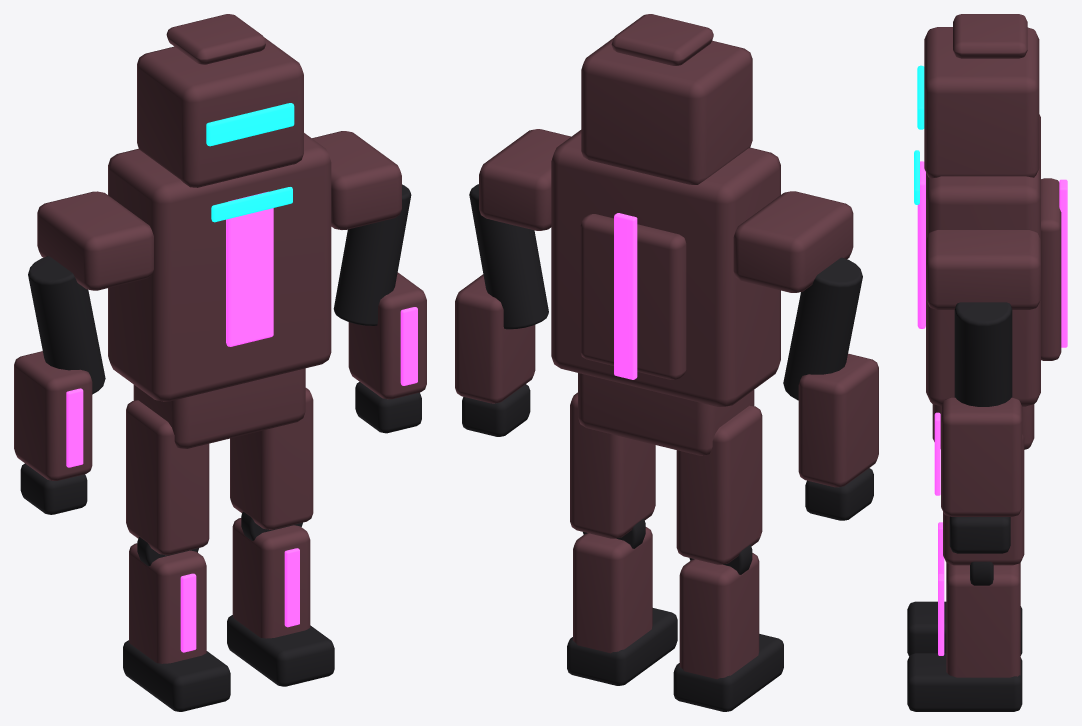
File: CyberOpponentCombatant.fbx
The picture shows the model from 3 angles, left to right: view 1: azimuth 30°, elevation 25°; view 2: azimuth 150°, elevation 25°; view 3: azimuth 270°, elevation 25°; orthographic projection. The views are drawn at different scales.
Visible parts, largest first — view 1: Opponent Chest Armor, Opponent Helmet Shell, Opponent Left Thigh Armor, Opponent Left Shoulder Plate, Opponent Right Thigh Armor, Opponent Waist Armor, Opponent Left Forearm Armor, Opponent Right Shin Armor, Opponent Left Shin Armor, Opponent Chest Magenta Core, Opponent Left Upper Arm Dark Joint, Opponent Right Shoulder Plate (+13 smaller); view 2: Opponent Chest Armor, Opponent Helmet Shell, Opponent Back Reactor Housing, Opponent Left Thigh Armor, Opponent Left Shoulder Plate, Opponent Left Forearm Armor, Opponent Left Shin Armor, Opponent Right Shin Armor, Opponent Right Thigh Armor, Opponent Waist Armor, Opponent Right Forearm Armor, Opponent Left Upper Arm Dark Joint (+8 smaller); view 3: Opponent Helmet Shell, Opponent Chest Armor, Opponent Right Forearm Armor, Opponent Right Shoulder Plate, Opponent Right Shin Armor, Opponent Right Upper Arm Dark Joint, Opponent Right Boot, Opponent Back Reactor Housing, Opponent Helmet Crest, Opponent Right Hand, Opponent Right Thigh Armor, Opponent Left Boot (+9 smaller).
Part boxes in pixels (box(x1,y1,x2,y2)): Opponent Chest Armor: box(108, 133, 331, 401); Opponent Helmet Shell: box(137, 37, 303, 187); Opponent Left Thigh Armor: box(126, 400, 209, 555); Opponent Left Shoulder Plate: box(37, 191, 153, 290); Opponent Right Thigh Armor: box(230, 388, 313, 529); Opponent Waist Armor: box(133, 368, 305, 448); Opponent Left Forearm Armor: box(14, 351, 92, 480); Opponent Right Shin Armor: box(232, 518, 310, 638); Opponent Left Shin Armor: box(129, 543, 206, 663); Opponent Chest Magenta Core: box(226, 191, 273, 346); Opponent Left Upper Arm Dark Joint: box(28, 256, 105, 394); Opponent Right Shoulder Plate: box(312, 131, 401, 229); Opponent Chest Armor: box(551, 130, 780, 406); Opponent Helmet Shell: box(581, 38, 752, 184); Opponent Back Reactor Housing: box(580, 214, 686, 379); Opponent Left Thigh Armor: box(676, 405, 762, 564); Opponent Left Shoulder Plate: box(733, 191, 853, 292); Opponent Left Forearm Armor: box(798, 353, 878, 487); Opponent Left Shin Armor: box(679, 553, 759, 679); Opponent Right Shin Armor: box(573, 527, 652, 653); Opponent Right Thigh Armor: box(570, 392, 655, 538); Opponent Waist Armor: box(578, 373, 754, 455); Opponent Right Forearm Armor: box(455, 274, 535, 403); Opponent Left Upper Arm Dark Joint: box(783, 257, 862, 400); Opponent Helmet Shell: box(924, 27, 1039, 178); Opponent Chest Armor: box(926, 119, 1040, 406); Opponent Right Forearm Armor: box(941, 397, 1022, 516); Opponent Right Shoulder Plate: box(926, 229, 1040, 309); Opponent Right Shin Armor: box(946, 563, 1020, 677); Opponent Right Upper Arm Dark Joint: box(954, 302, 1012, 406); Opponent Right Boot: box(907, 653, 1022, 711); Opponent Back Reactor Housing: box(1041, 178, 1061, 360); Opponent Helmet Crest: box(953, 14, 1027, 58); Opponent Right Hand: box(949, 516, 1010, 553); Opponent Right Thigh Armor: box(943, 434, 1024, 565); Opponent Left Boot: box(907, 601, 1022, 656).
Size of the model in its own units: 132 by 211 by 47.35.
